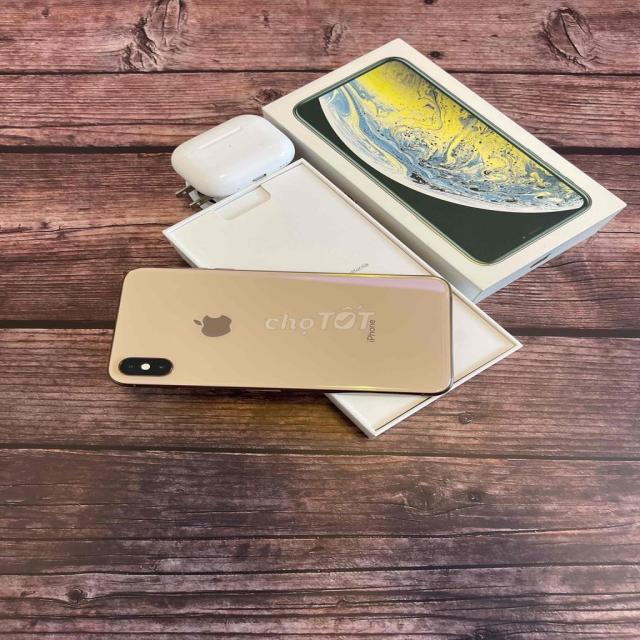gen_x_xs: (96, 255, 473, 411)
